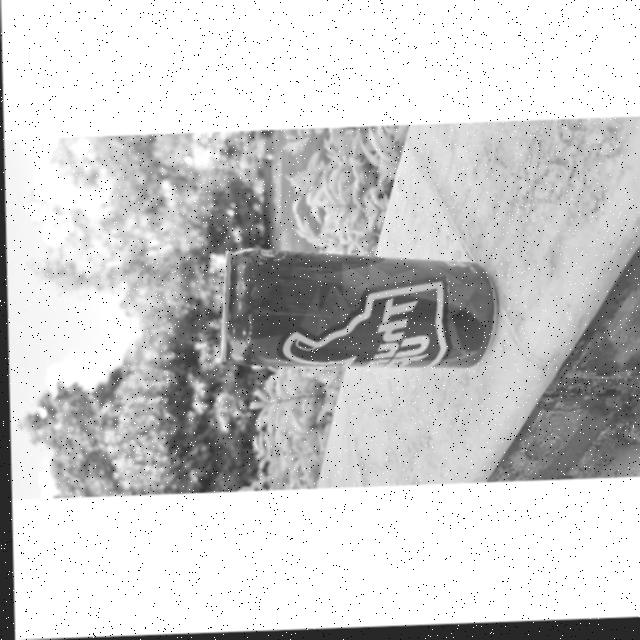Thums Up: (210, 239, 501, 381)
